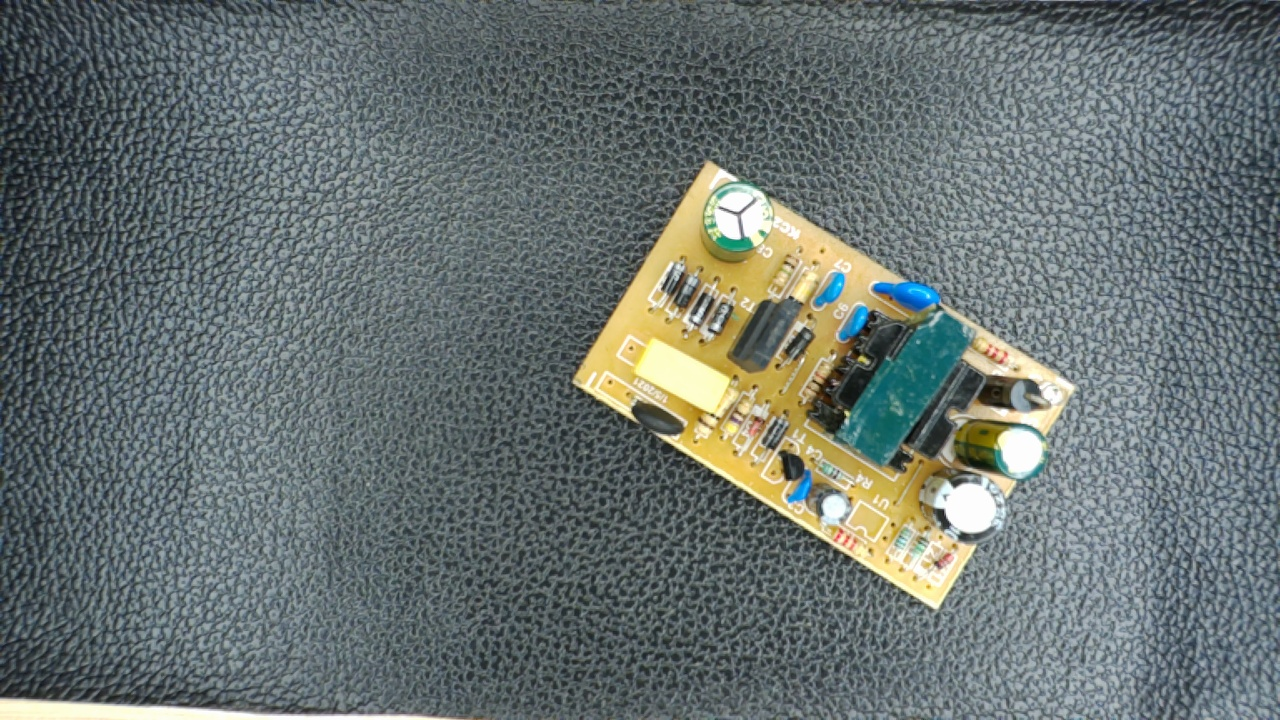fuse: (620, 389, 692, 446)
hv_capacitor: (699, 183, 779, 264)
mov: (864, 272, 944, 315)
